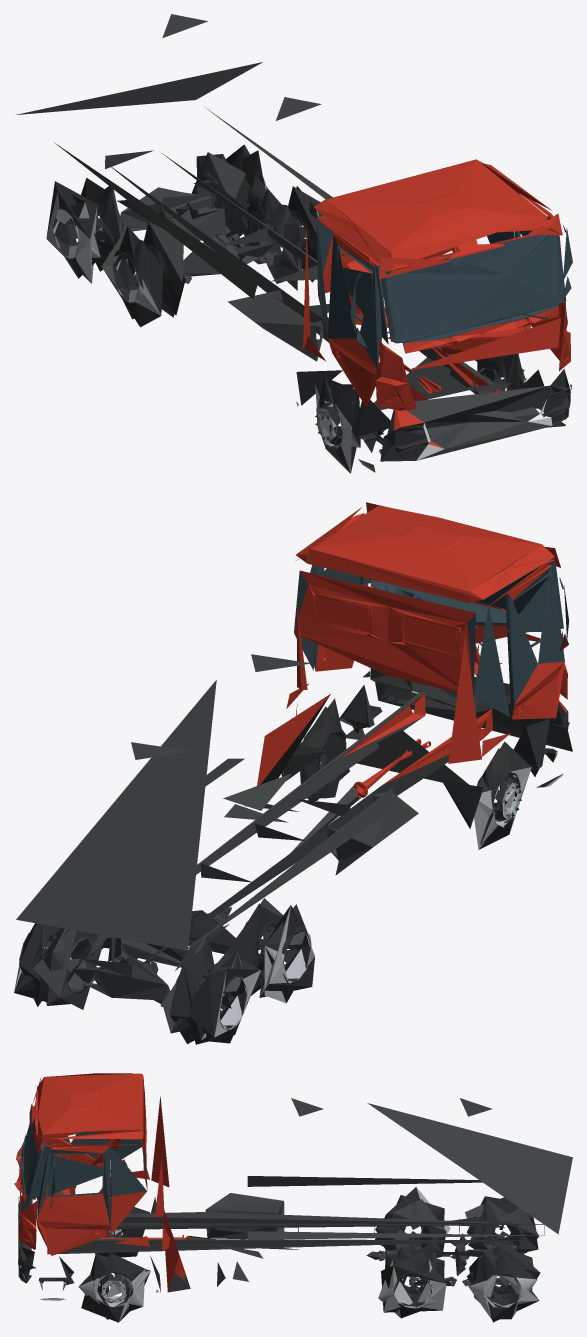
File: tanker-truck.glb
The picture shows the model from 3 angles, top to bottom: view 1: azimuth 30°, elevation 25°; view 2: azimuth 150°, elevation 25°; view 3: azimuth 270°, elevation 25°; orthographic projection. The views are drawn at different scales.
Parts seen in each view (by area): view 1: truck; view 2: truck; view 3: truck.
Boxes of the visible parts, x1=… form: truck: x1=16, y1=14, x2=572, y2=473; truck: x1=14, y1=502, x2=572, y2=1044; truck: x1=14, y1=1073, x2=572, y2=1322.
Bounding box in the file's own units: 2.88 × 3.23 × 8.42.
